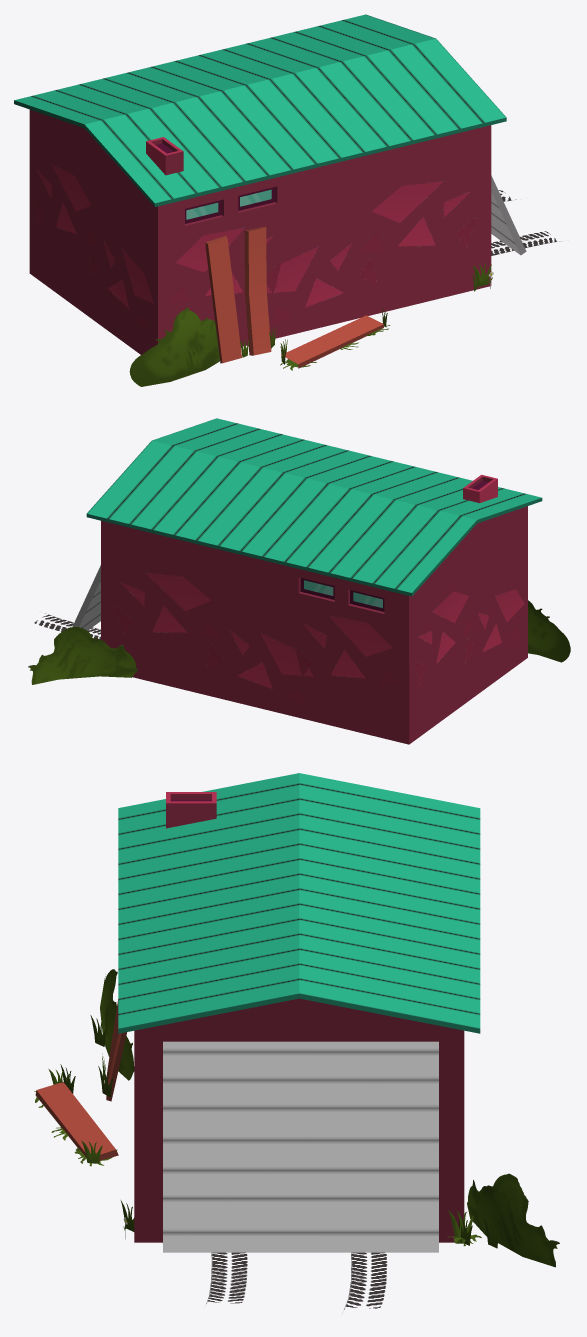
File: GarageWithDoor.fbx
3 views of the same model, one above another, from view 1: azimuth 30°, elevation 25°; view 2: azimuth 150°, elevation 25°; view 3: azimuth 270°, elevation 25° (orthographic). The views are drawn at different scales.
Parts seen in each view (by area): view 1: Garage, GarageDoor; view 2: Garage, GarageDoor; view 3: Garage, GarageDoor.
Part boxes in pixels (bbox=[...]): Garage: bbox=[14, 14, 561, 386]; GarageDoor: bbox=[491, 175, 526, 255]; Garage: bbox=[28, 418, 570, 744]; GarageDoor: bbox=[72, 565, 100, 630]; Garage: bbox=[34, 773, 559, 1312]; GarageDoor: bbox=[163, 1041, 438, 1252].
Bounding box in the file's own units: 634 × 247 × 476.
